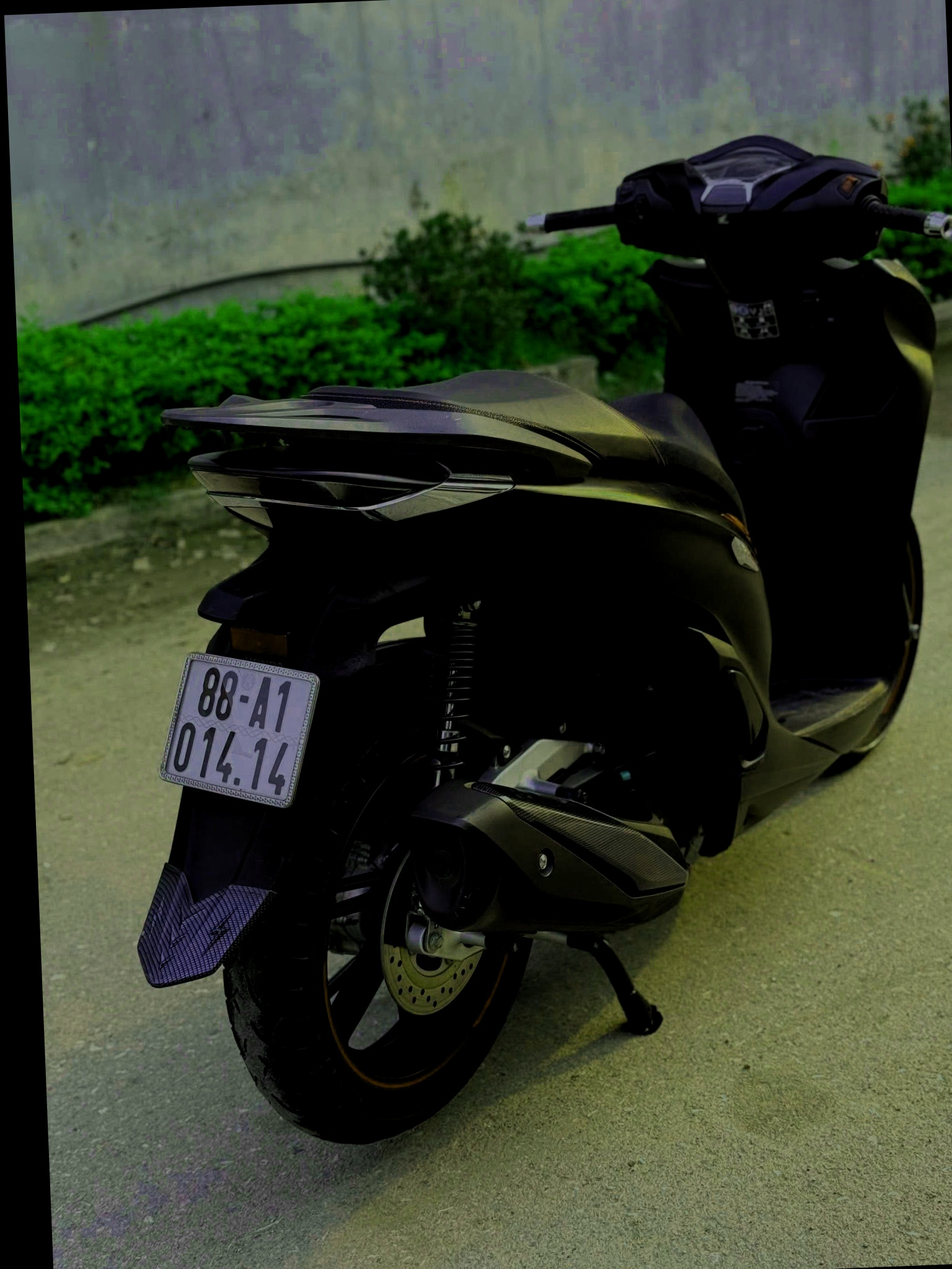Bien-so: (142, 641, 326, 823)
